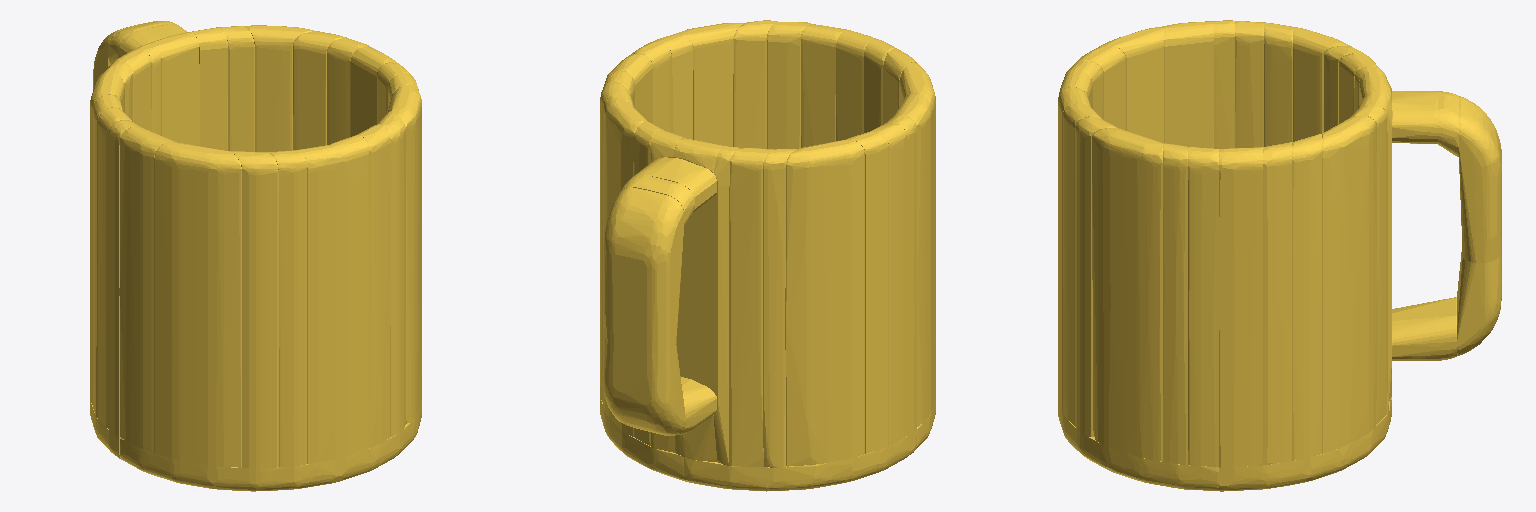
robot.urdf — 813.urdf:
<?xml version="1.0" ?>
<robot name="813.urdf">
	<link name="baseLink">
		<inertial>
			<origin rpy="0 0 0" xyz="0 0 0"/>
				<mass value="0.1"/>
				<inertia ixx="6e-5" ixy="0" ixz="0" iyy="6e-5" iyz="0" izz="6e-5"/>
		</inertial>
		<visual>
			<origin rpy="0 0 0" xyz="0 0 0"/>
			<geometry>
				<mesh filename="25_decom_wt.obj" scale="0.98 0.98 0.91"/>
			</geometry>
			<material name="yellow">
				<color rgba="0.98 0.84 0.35 1"/>
			</material>
		</visual>
		<collision>
			<origin rpy="0 0 0" xyz="0 0 0"/>
			<geometry>
				<mesh filename="25_decom_wt.obj" scale="0.98 0.98 0.91"/>
			</geometry>
		</collision>
	</link>
</robot>

--- Render facts (derived) ---
3 views of the same robot in one strip: view 1: azimuth 30°, elevation 25°; view 2: azimuth 150°, elevation 25°; view 3: azimuth 270°, elevation 25° (orthographic).
Model 813.urdf with 1 links and 0 joints (none), rooted at baseLink, posed all joints at 0.
Visible links, largest first — view 1: baseLink; view 2: baseLink; view 3: baseLink.
Link boxes in pixels (box(x1,y1,x2,y2)): baseLink: box(90, 21, 421, 491); baseLink: box(600, 20, 935, 491); baseLink: box(1058, 20, 1501, 491).
Size in the robot's own frame: 0.0952 by 0.1263 by 0.1065 metres.
Meshes: 1 distinct files referenced, 1 mesh visuals loaded (1 OBJ).